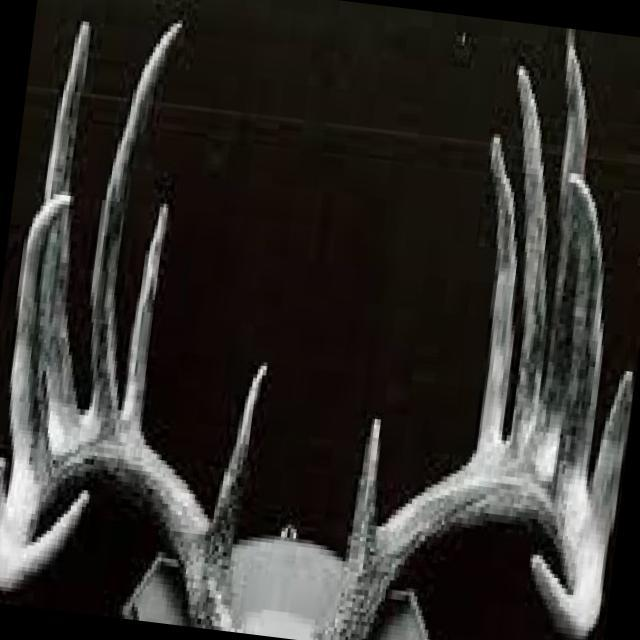L-F: (329, 458, 606, 640)
L-G1: (343, 415, 382, 576)
L-G2: (463, 132, 518, 462)
L-G3: (509, 66, 546, 459)
L-G4: (556, 173, 604, 505)
R-F: (0, 425, 230, 627)
R-G1: (205, 361, 269, 567)
R-G2: (119, 200, 169, 441)
R-G3: (84, 17, 186, 428)
